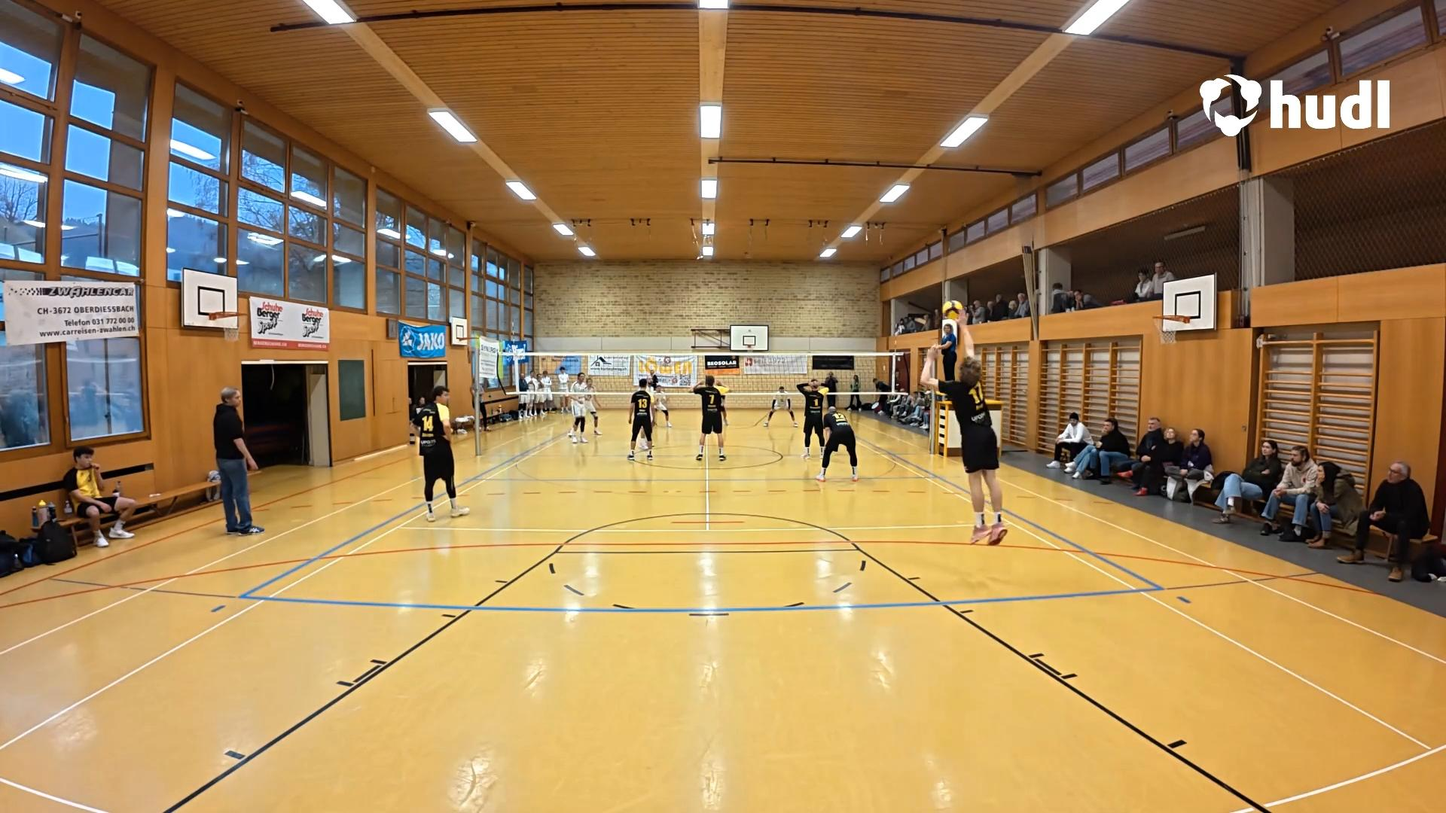battuta: (920, 306, 1011, 547)
